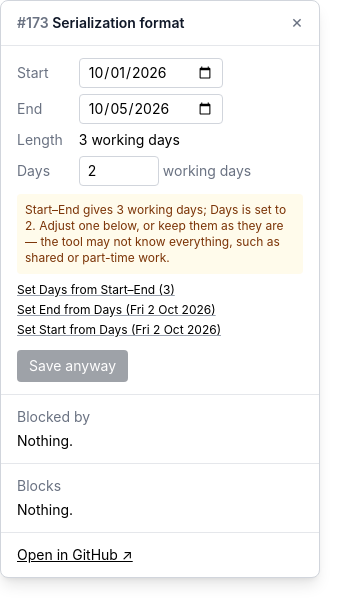
TaskDetail › Days › Set Start from Days fills the Start box from End − Days, and waits for Save
What coordinates should you click on to do the following:
click the button "Set Start from Days (Fri 2 Oct 2026)"
I would click on:
 (119, 330)
Its box is [17, 322, 221, 338].
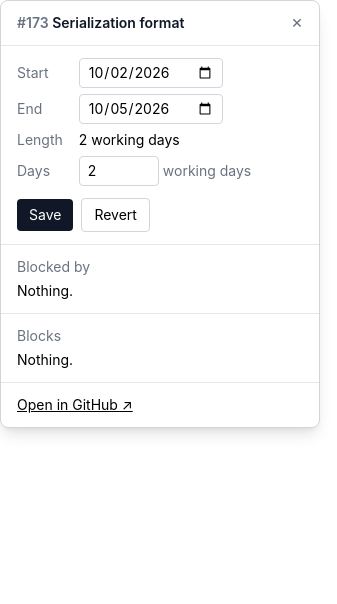
expect the date field with id "detail-start" holds "2026-10-02": met, box [79, 58, 223, 88]
